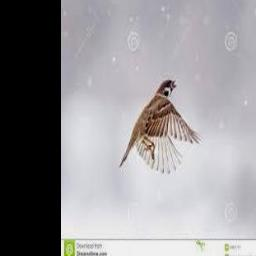Sparrow: (119, 79, 202, 174)
